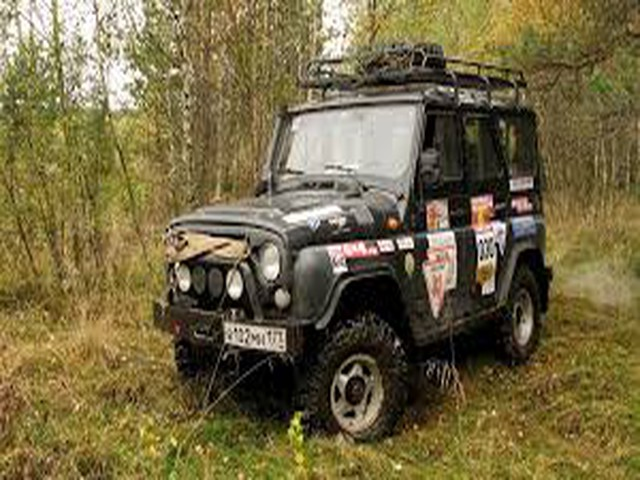Vehicle: (156, 35, 556, 432)
